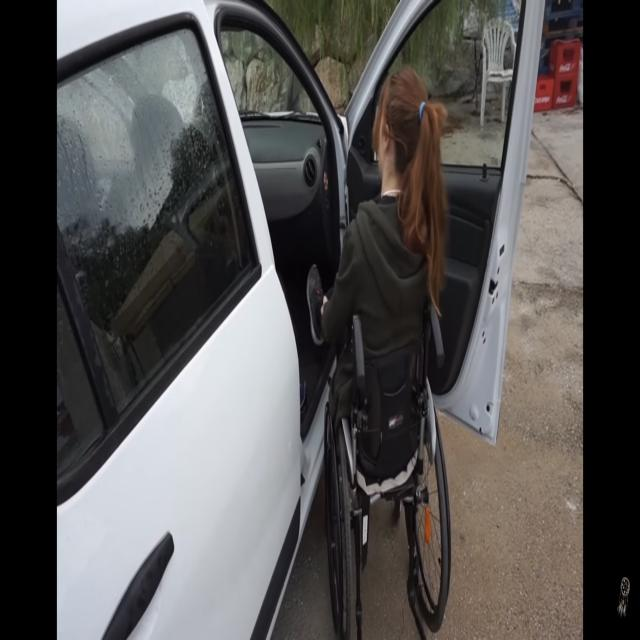wheelchairs: (320, 310, 454, 640)
